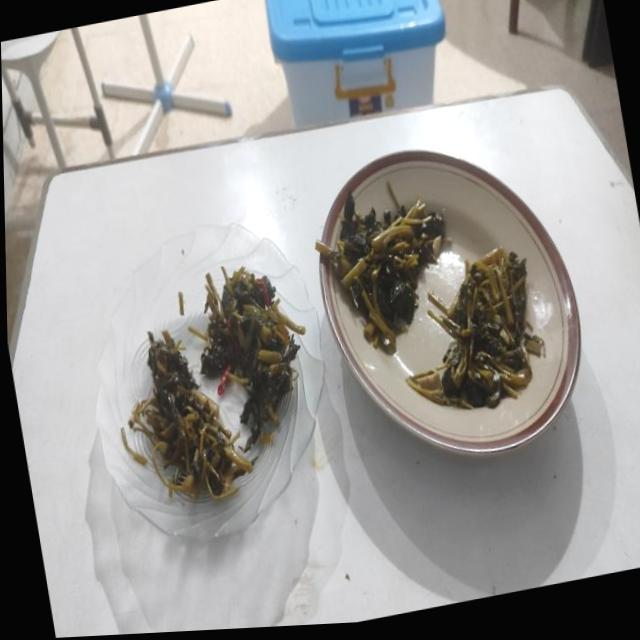tumis_kangkung: (414, 247, 546, 409), (128, 330, 252, 500), (200, 266, 305, 451), (330, 192, 445, 340)
